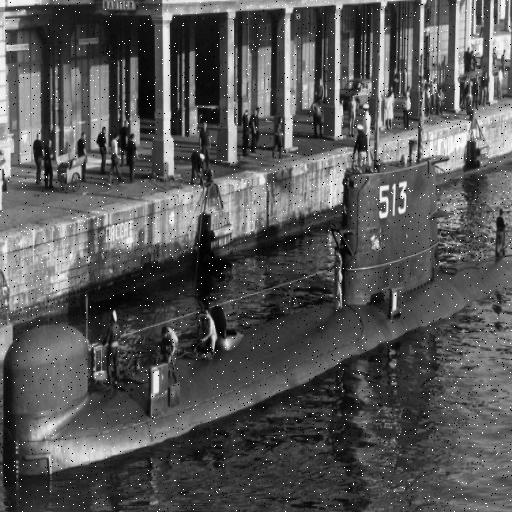submarine: (3, 146, 512, 485)
